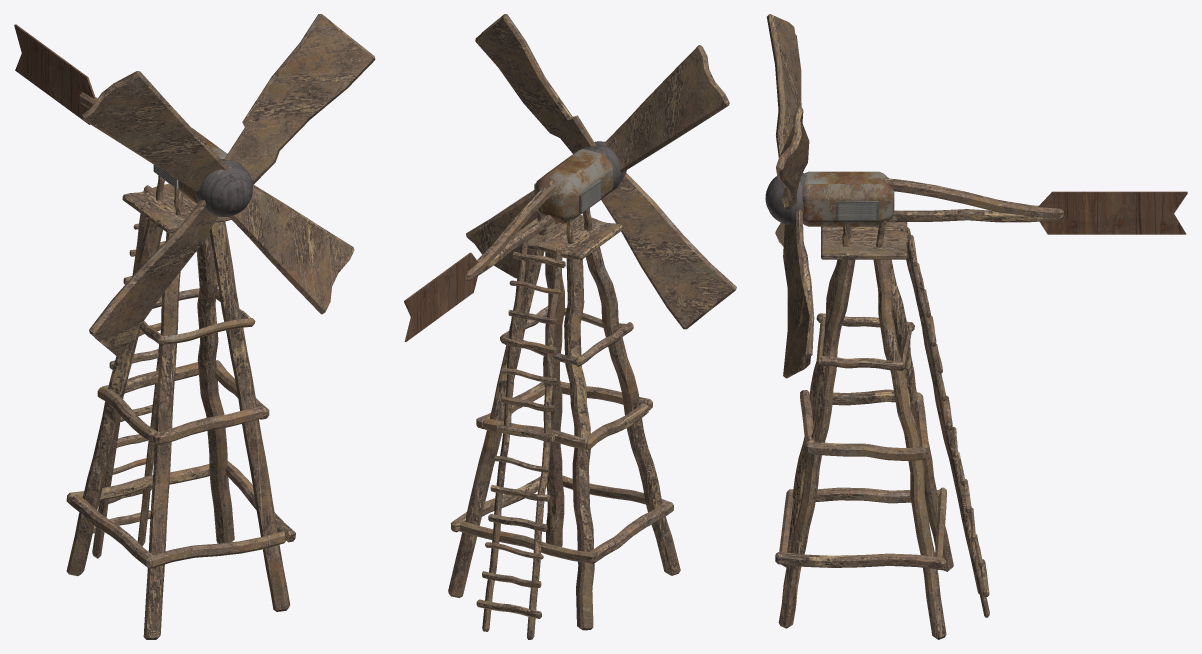
File: windmill.fbx
The picture shows the model from 3 angles, left to right: view 1: azimuth 30°, elevation 25°; view 2: azimuth 150°, elevation 25°; view 3: azimuth 270°, elevation 25°; orthographic projection. The views are drawn at different scales.
Visible parts, largest first — view 1: Windmill; view 2: Windmill; view 3: Windmill.
Part boxes in pixels (x1,y1,x2,y2): Windmill: (14, 14, 375, 639); Windmill: (404, 14, 736, 639); Windmill: (765, 14, 1187, 639).
Size of the model in its own units: 2.59 by 5.1 by 3.55.
